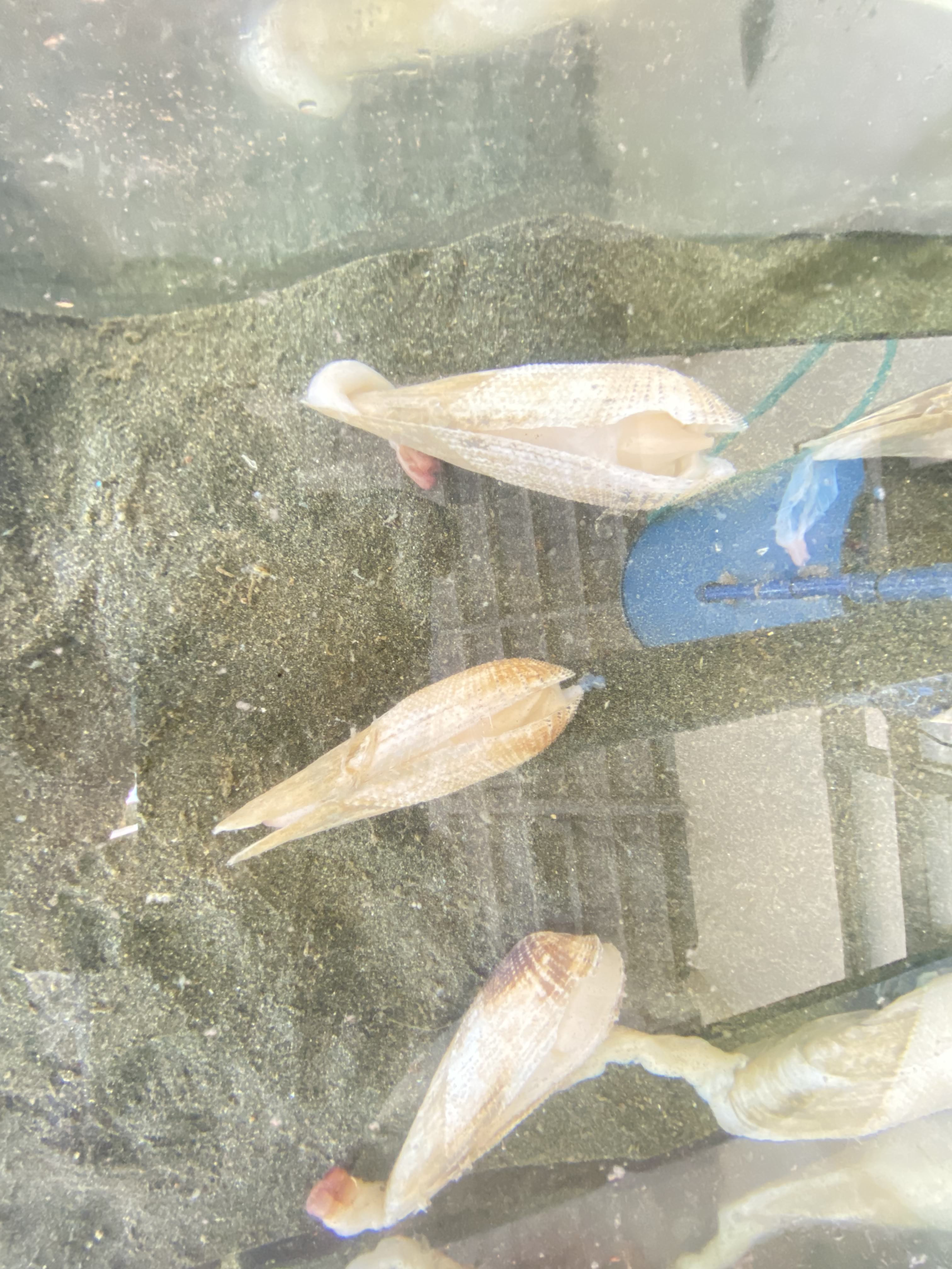At risk: (309, 931, 952, 1235), (214, 658, 584, 863), (306, 361, 745, 513), (806, 388, 952, 460), (775, 453, 838, 567)
